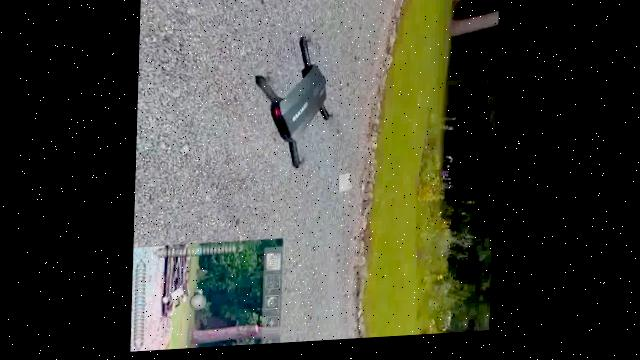drone: (132, 0, 190, 353)
